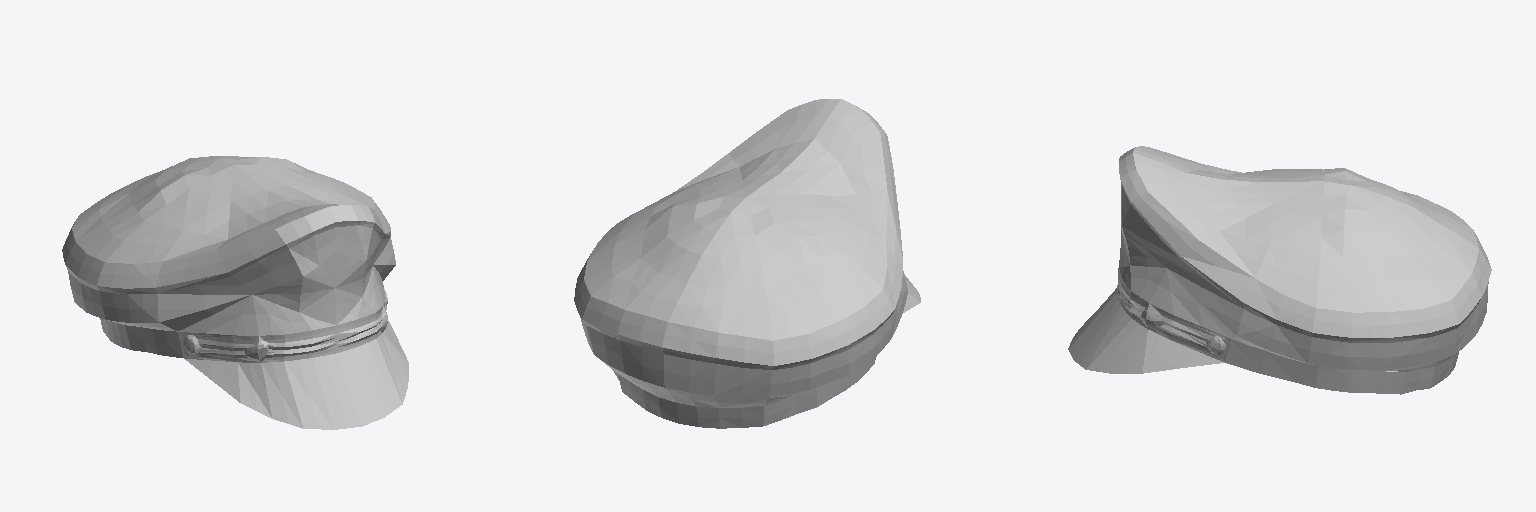
The model's file is Sailor_Hat.obj.
The picture shows the model from 3 angles: view 1: azimuth 30°, elevation 25°; view 2: azimuth 150°, elevation 25°; view 3: azimuth 270°, elevation 25°; orthographic projection.
Parts seen in each view (by area): view 1: 24_+hat.hat_1_0_0; view 2: 24_+hat.hat_1_0_0; view 3: 24_+hat.hat_1_0_0.
Part boxes in pixels (bbox=[...]): 24_+hat.hat_1_0_0: bbox=[62, 156, 408, 429]; 24_+hat.hat_1_0_0: bbox=[574, 99, 920, 428]; 24_+hat.hat_1_0_0: bbox=[1068, 146, 1491, 394].
Size of the model in its own units: 0.2062 by 0.1414 by 0.2633.